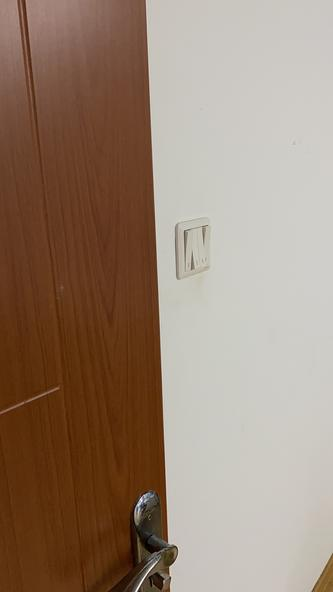switch: (185, 231, 213, 270)
